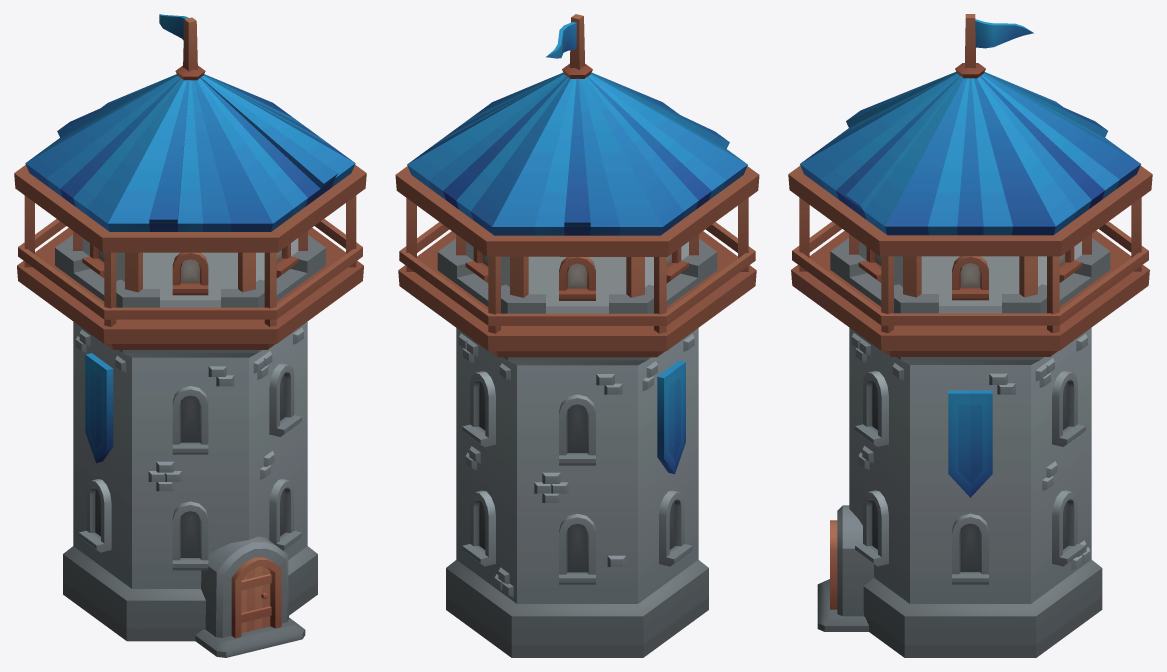
File: hexb_tower_b.glb
The picture shows the model from 3 angles, left to right: view 1: azimuth 30°, elevation 25°; view 2: azimuth 150°, elevation 25°; view 3: azimuth 270°, elevation 25°; orthographic projection. The views are drawn at different scales.
Parts seen in each view (by area): view 1: building_tower_B_blue, building_tower_B_top_blue; view 2: building_tower_B_blue, building_tower_B_top_blue; view 3: building_tower_B_blue, building_tower_B_top_blue.
Part boxes in pixels (x1,y1,x2,y2): building_tower_B_blue: (55,235,325,657); building_tower_B_top_blue: (14,14,366,349); building_tower_B_blue: (437,238,717,657); building_tower_B_top_blue: (395,14,759,357); building_tower_B_blue: (817,238,1110,657); building_tower_B_top_blue: (788,14,1152,356).
Size of the model in its own units: 1.2 by 2.49 by 1.38.
Materials: 1 (1 with a texture image).
